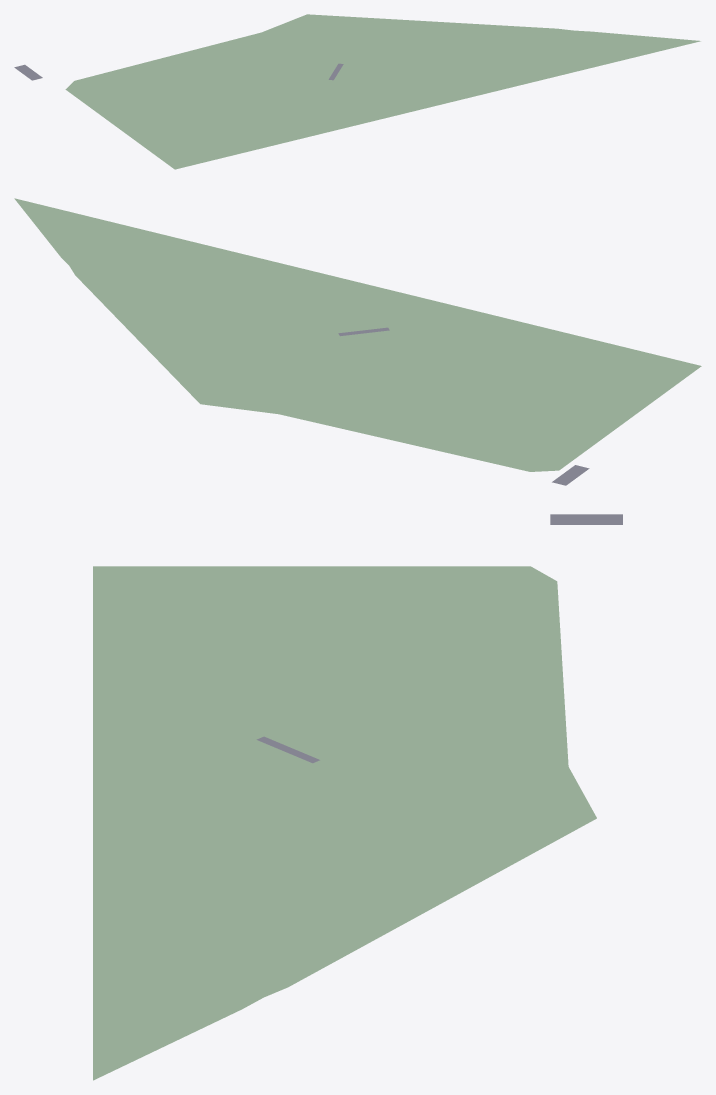
The model's file is 123_124_mid.glb.
3 views of the same model, one above another, from view 1: azimuth 30°, elevation 25°; view 2: azimuth 150°, elevation 25°; view 3: azimuth 270°, elevation 25° (orthographic). The views are drawn at different scales.
Bounding box in the file's own units: 352 × 7.37 × 145.
